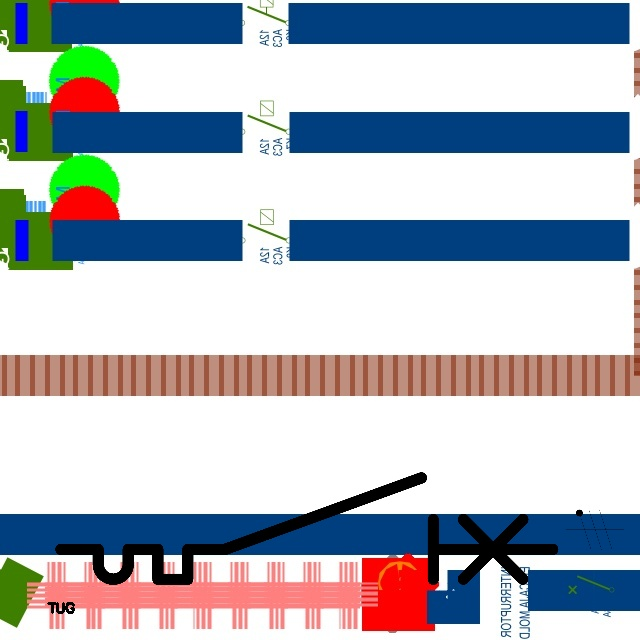interruptor_termomagnetico: (48, 465, 565, 592)
